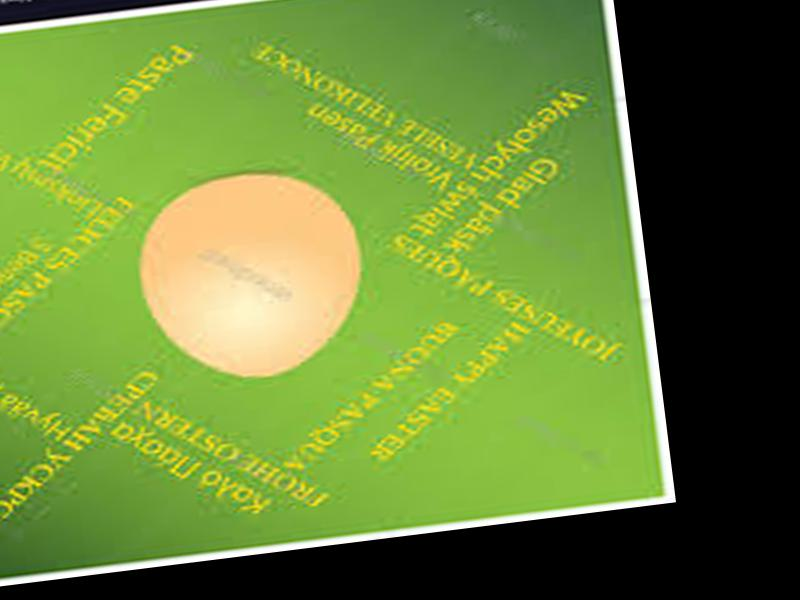Eggs: (129, 163, 370, 385)
